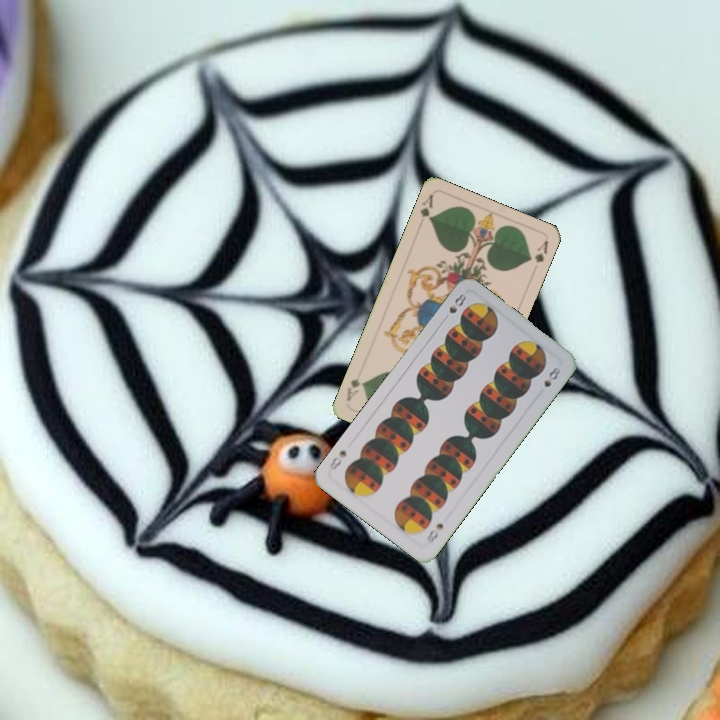GA: (416, 191, 436, 223)
S8: (445, 290, 469, 316), (423, 519, 446, 546)
